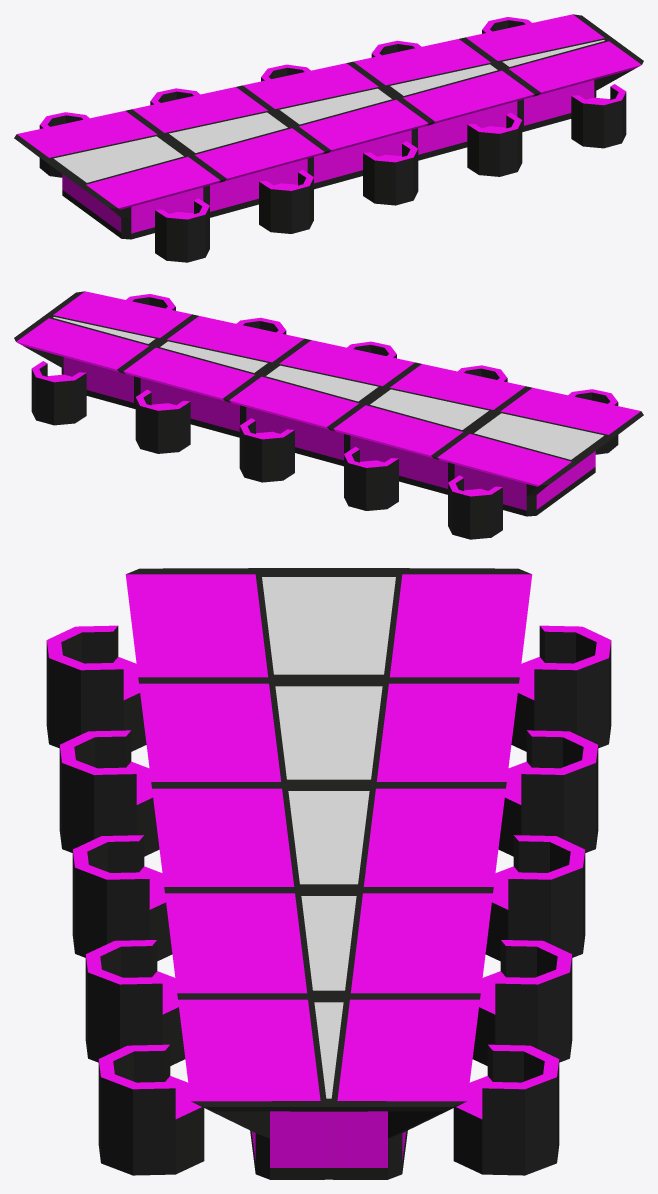
File: Big Table.fbx
The picture shows the model from 3 angles, top to bottom: view 1: azimuth 30°, elevation 25°; view 2: azimuth 150°, elevation 25°; view 3: azimuth 270°, elevation 25°; orthographic projection. The views are drawn at different scales.
Visible parts, largest first — view 1: Diner Table.010; view 2: Diner Table.010; view 3: Diner Table.010.
Boxes of the visible parts, box(x1,y1,x2,y2) form: Diner Table.010: box(14, 14, 643, 262); Diner Table.010: box(14, 291, 643, 539); Diner Table.010: box(46, 568, 611, 1179).
Size of the model in its own units: 15.5 by 6.86 by 1.39.
